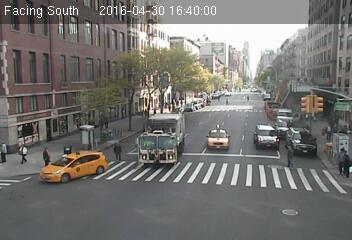neg: (253, 54, 279, 89), (33, 32, 58, 66), (63, 88, 88, 121), (305, 84, 330, 117), (212, 146, 234, 176), (151, 131, 173, 159), (116, 49, 137, 78), (215, 100, 233, 123), (185, 68, 201, 90), (139, 179, 154, 200), (256, 198, 269, 215)
pos: (323, 144, 346, 176), (279, 142, 299, 168), (1, 138, 19, 163), (107, 139, 123, 161), (18, 144, 33, 164), (39, 147, 52, 165)
